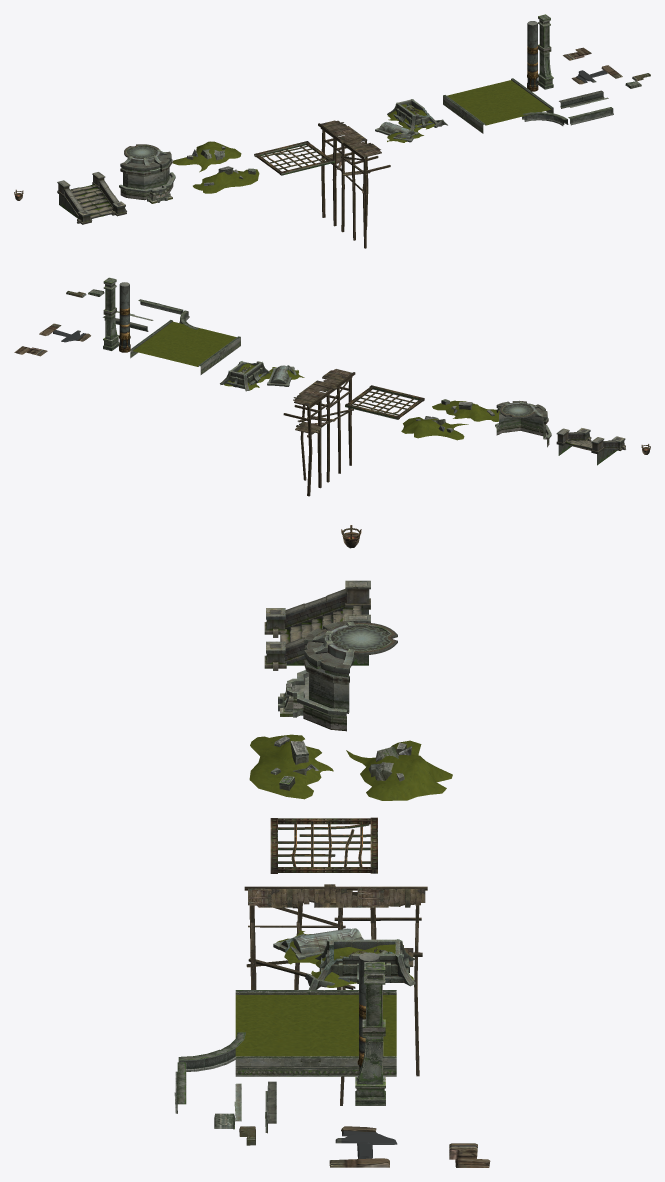
Rendered from f_1000_Thing01.FBX.
3 renders of one model, top to bottom at view 1: azimuth 30°, elevation 25°; view 2: azimuth 150°, elevation 25°; view 3: azimuth 270°, elevation 25°, orthographic. The views are drawn at different scales.
Visible parts, largest first — view 1: d_1118_wood03, f_1118_thing_02, d_1118_fountain, f_1113_floor_a04, d_118_Conffin_02, w_1118_thing_09, f_1118_thing_08, f_1118_thing_07, w_1118_thing_07, Cylinder001, w_1009_railing120, w_1009_railing119 (+1 smaller); view 2: d_1118_wood03, f_1118_thing_02, d_1118_fountain, d_118_Conffin_02, f_1113_floor_a04, w_1118_thing_09, f_1118_thing_07, f_1118_thing_08, w_1118_thing_07, Cylinder001; view 3: f_1118_thing_02, d_1118_wood03, d_1118_fountain, d_118_Conffin_02, f_1113_floor_a04, w_1118_thing_09, f_1118_thing_07, f_1118_thing_08, w_1118_thing_07, f_1118_floor01, w_1009_railing120.
Boxes of the visible parts, x1,y1,x2,y2 form: d_1118_wood03: (318, 120, 390, 248); f_1118_thing_02: (443, 78, 553, 133); d_1118_fountain: (119, 144, 175, 203); f_1113_floor_a04: (57, 172, 126, 224); d_118_Conffin_02: (375, 99, 447, 142); w_1118_thing_09: (254, 141, 334, 175); f_1118_thing_08: (193, 166, 259, 193); f_1118_thing_07: (172, 141, 241, 172); w_1118_thing_07: (537, 14, 553, 89); Cylinder001: (527, 21, 538, 91); w_1009_railing120: (522, 112, 568, 125); w_1009_railing119: (568, 107, 613, 125); d_1118_wood03: (283, 369, 355, 496); f_1118_thing_02: (130, 320, 240, 374); d_1118_fountain: (495, 400, 551, 447); d_118_Conffin_02: (220, 361, 304, 391); f_1113_floor_a04: (556, 428, 625, 465); w_1118_thing_09: (345, 385, 424, 419); f_1118_thing_07: (401, 416, 468, 440); f_1118_thing_08: (432, 399, 499, 421); w_1118_thing_07: (103, 277, 119, 350); Cylinder001: (119, 282, 130, 352); f_1118_thing_02: (235, 990, 396, 1076); d_1118_wood03: (244, 884, 427, 1105); d_1118_fountain: (278, 620, 397, 731); d_118_Conffin_02: (273, 928, 415, 989); f_1113_floor_a04: (264, 580, 370, 670); w_1118_thing_09: (270, 817, 377, 873); f_1118_thing_07: (346, 740, 452, 800); f_1118_thing_08: (249, 734, 333, 799); w_1118_thing_07: (355, 962, 385, 1105); f_1118_floor01: (335, 1126, 397, 1158); w_1009_railing120: (178, 1032, 245, 1071).
Bounding box in the file's own units: 9578 × 2413 × 2151.
